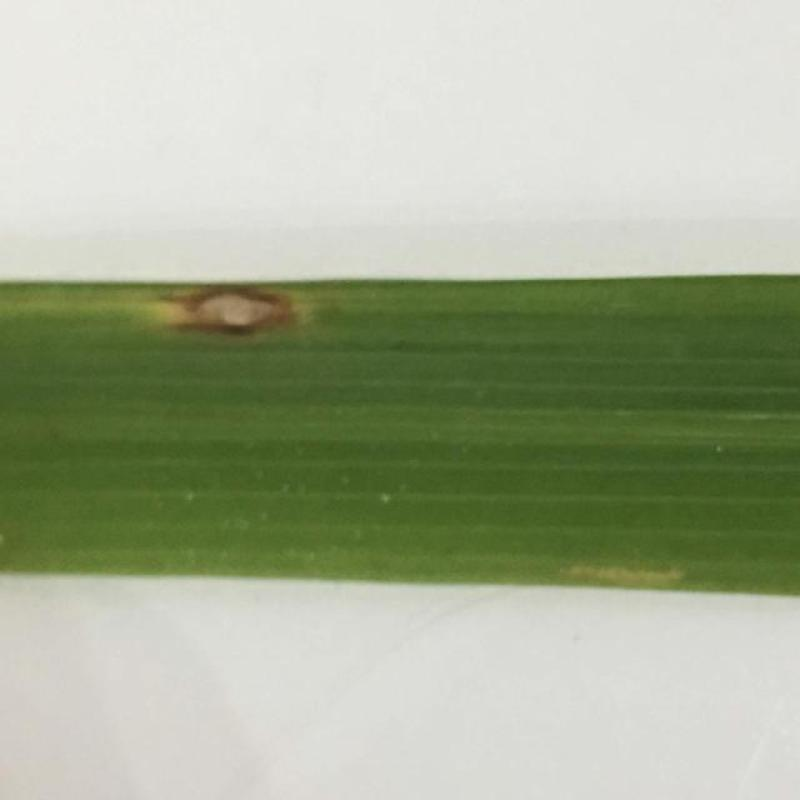Leaf_Blast: (123, 251, 328, 374)
